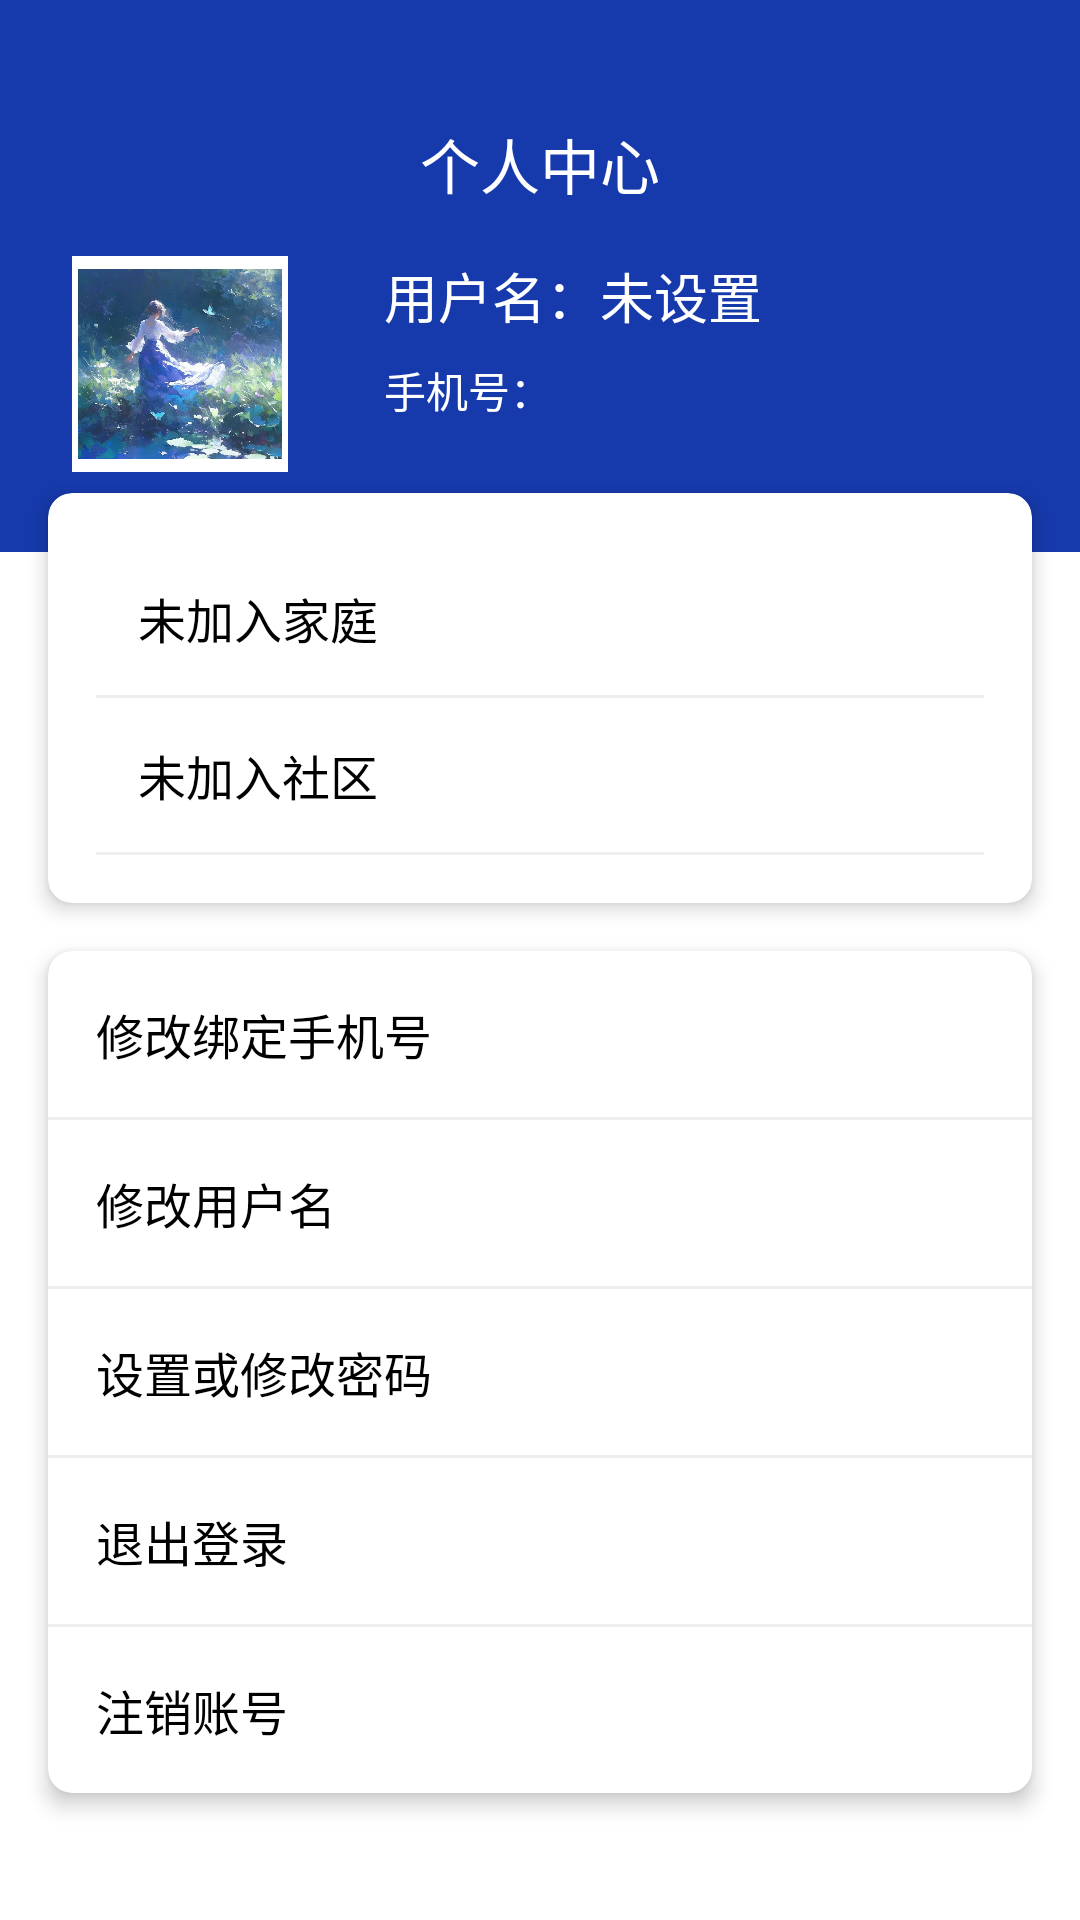

Icons on this 1080*1920 Android screen, each with the point to tap as (x=x, y=y):
touxiang: (x=180, y=364)
